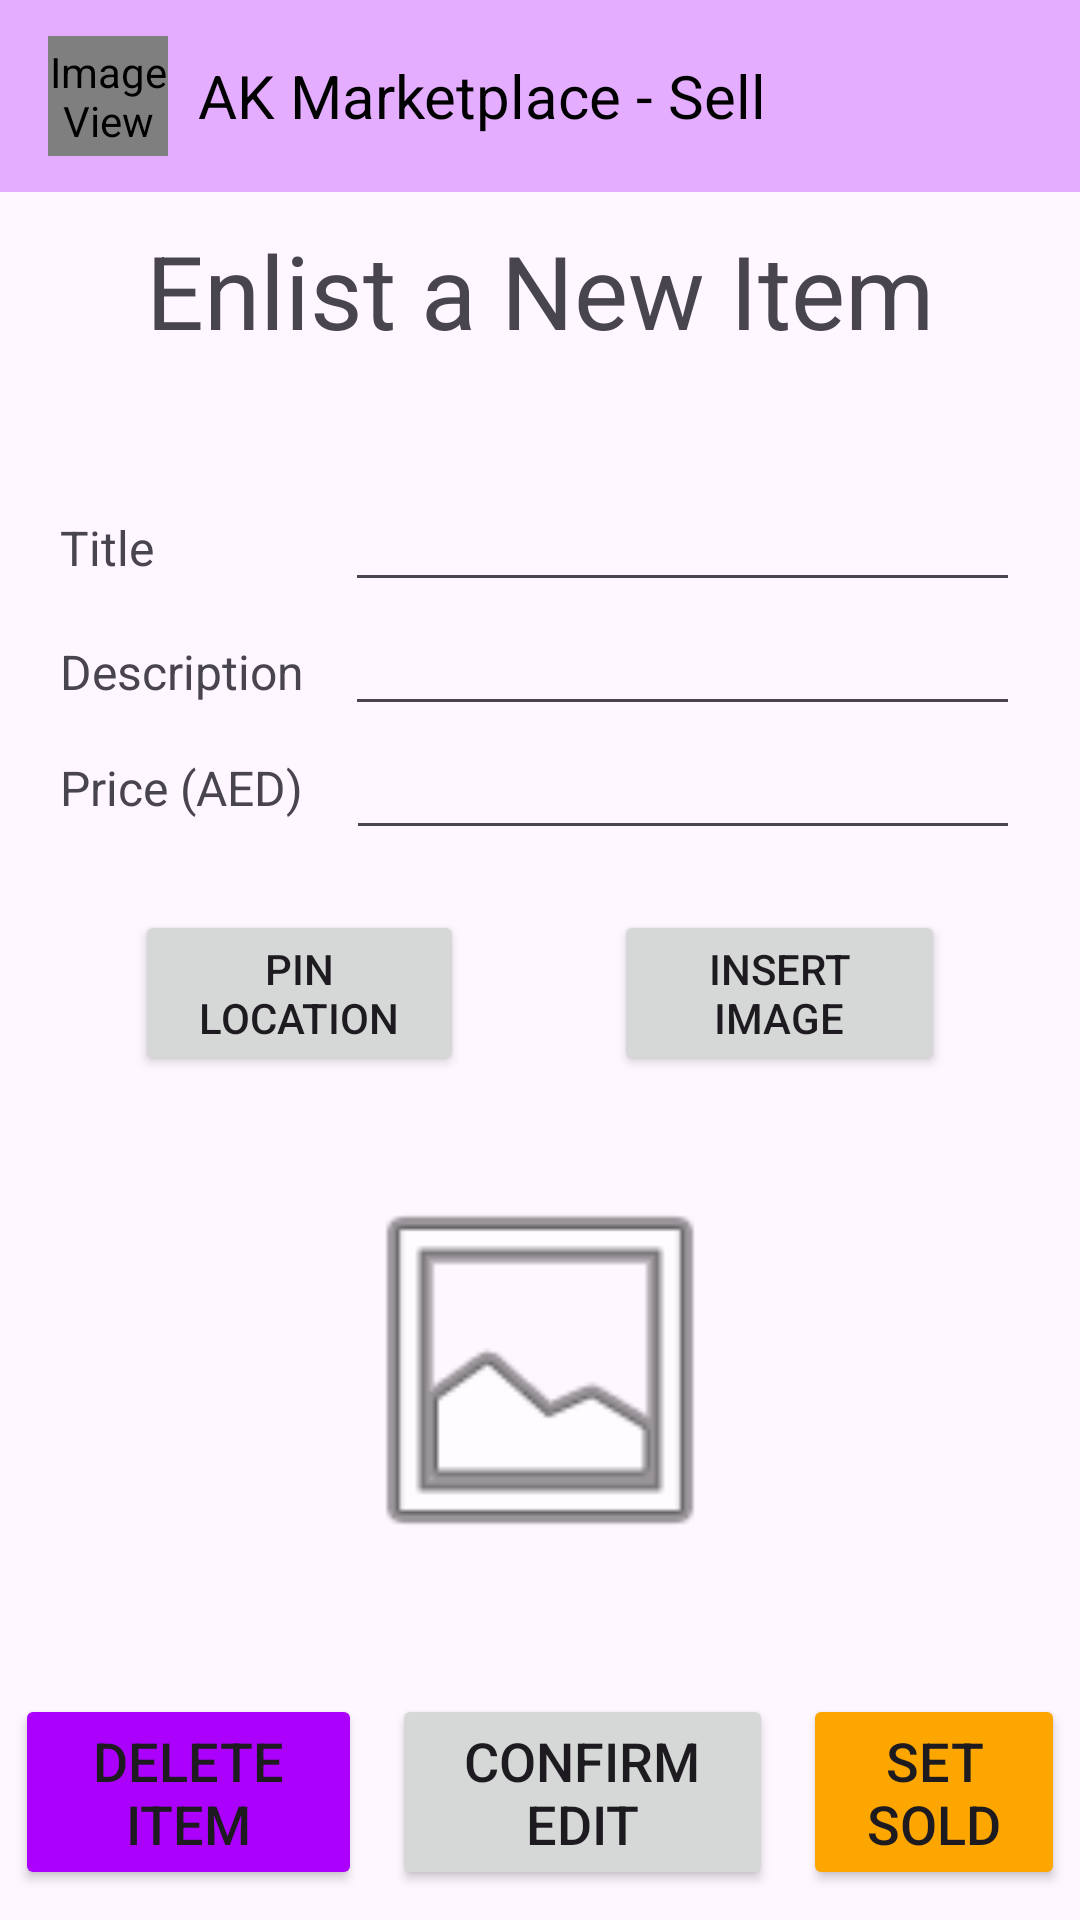

Named icons in this screenshot (1080px×1920px) and their bounding boxes, [x1=x1, y1=y1, x2=x2, y2=y2]:
gallery: [x1=386, y1=1216, x2=694, y2=1524]
